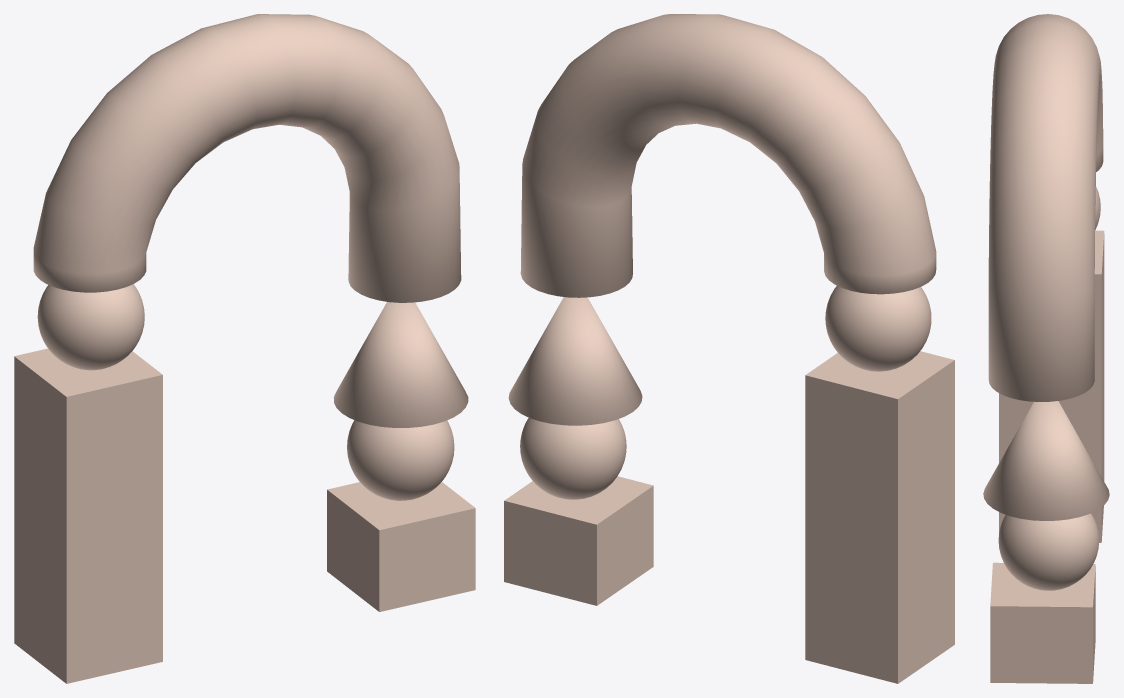
File: teleportalOffWhite.glb
The picture shows the model from 3 angles, left to right: view 1: azimuth 30°, elevation 25°; view 2: azimuth 150°, elevation 25°; view 3: azimuth 270°, elevation 25°; orthographic projection. The views are drawn at different scales.
Visible parts, largest first — view 1: Cube.003; view 2: Cube.003; view 3: Cube.003.
Boxes of the visible parts, x1=… form: Cube.003: x1=14, y1=14, x2=475, y2=683; Cube.003: x1=504, y1=14, x2=954, y2=683; Cube.003: x1=983, y1=14, x2=1109, y2=683.
Size of the model in its own units: 11.25 by 15.31 by 3.15.
